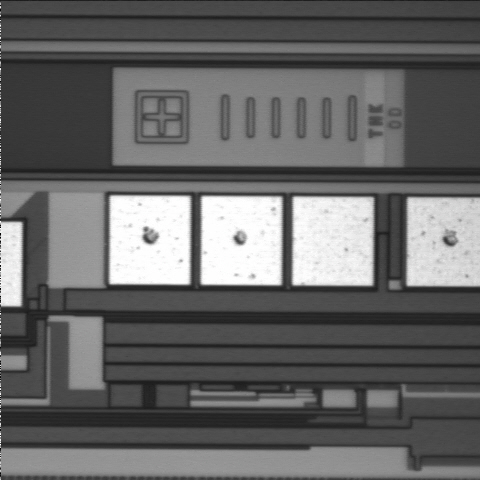pad: (109, 196, 191, 285), (201, 196, 282, 285), (292, 197, 373, 286)
